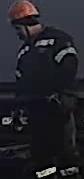gloves: (59, 87, 80, 121)
helmet: (6, 0, 40, 25)
vest: (14, 25, 78, 102)
